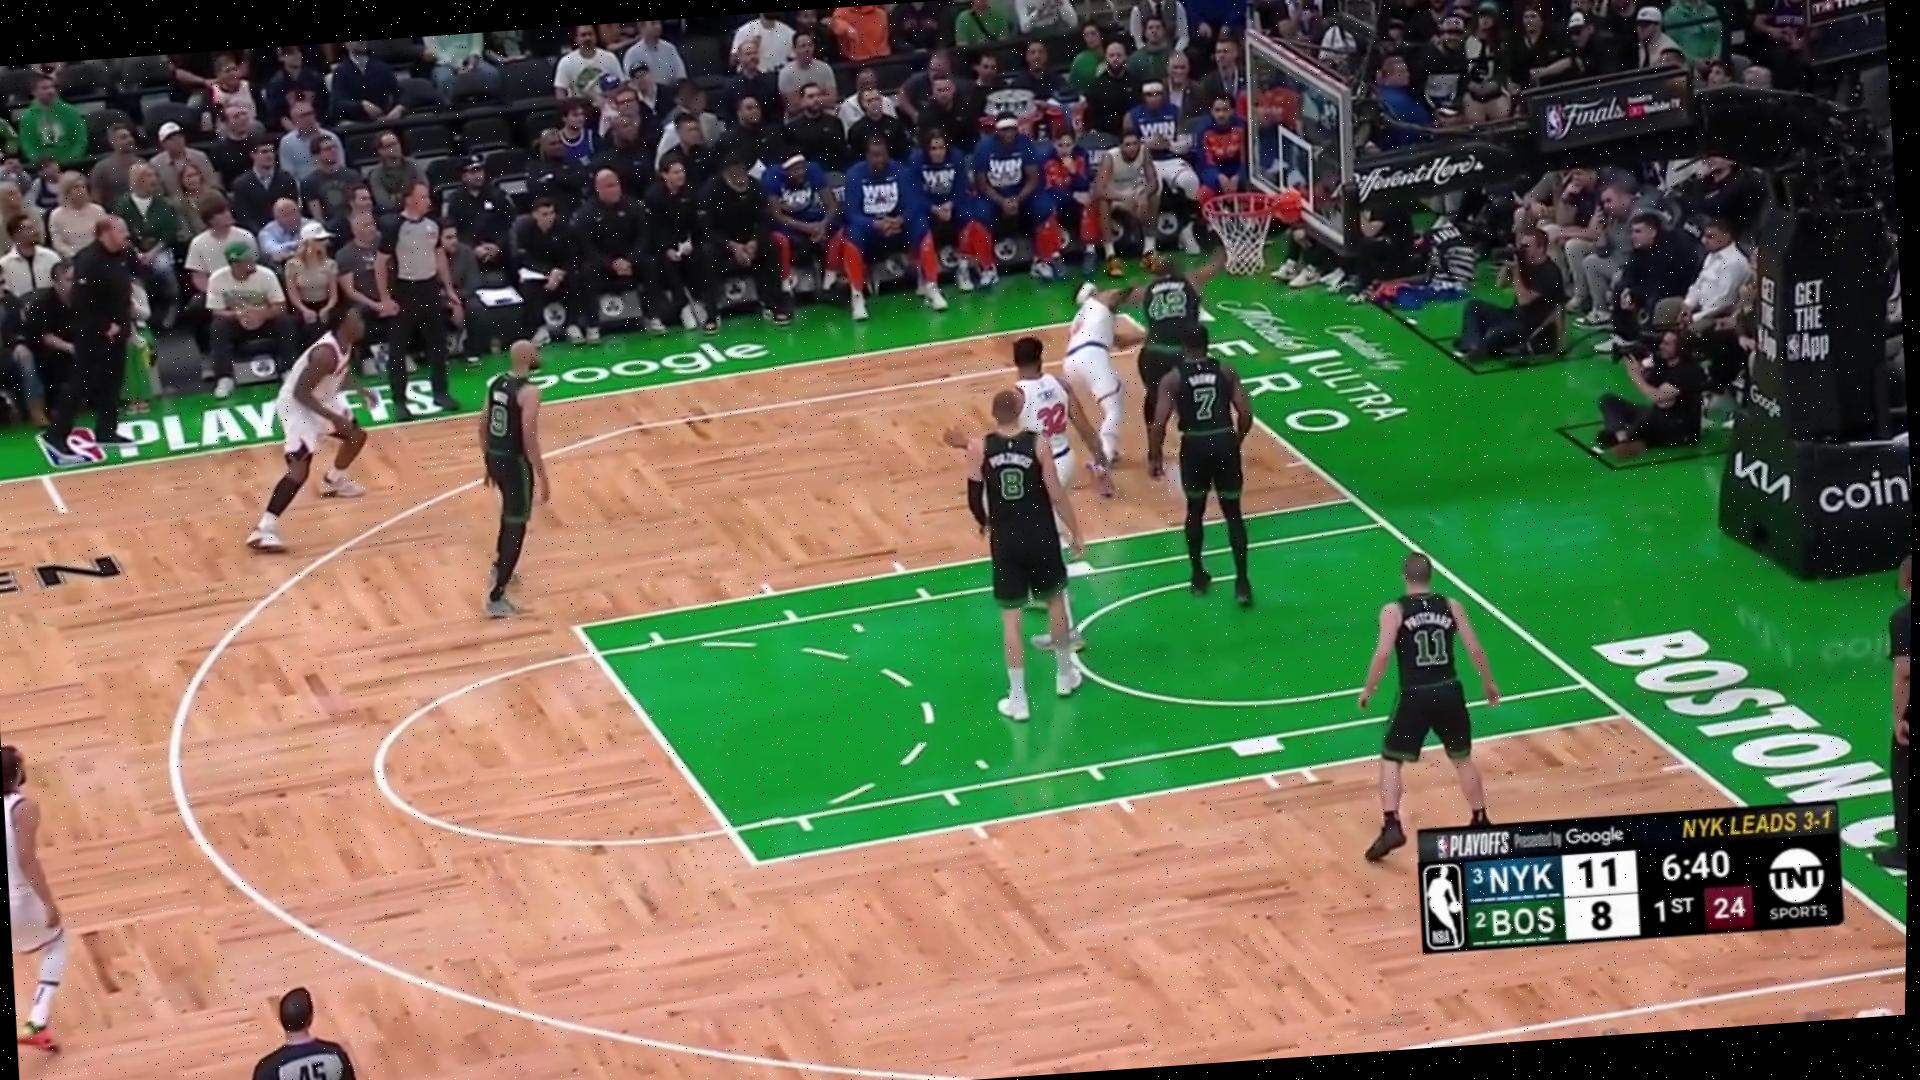foul: (1048, 229, 1228, 480)
